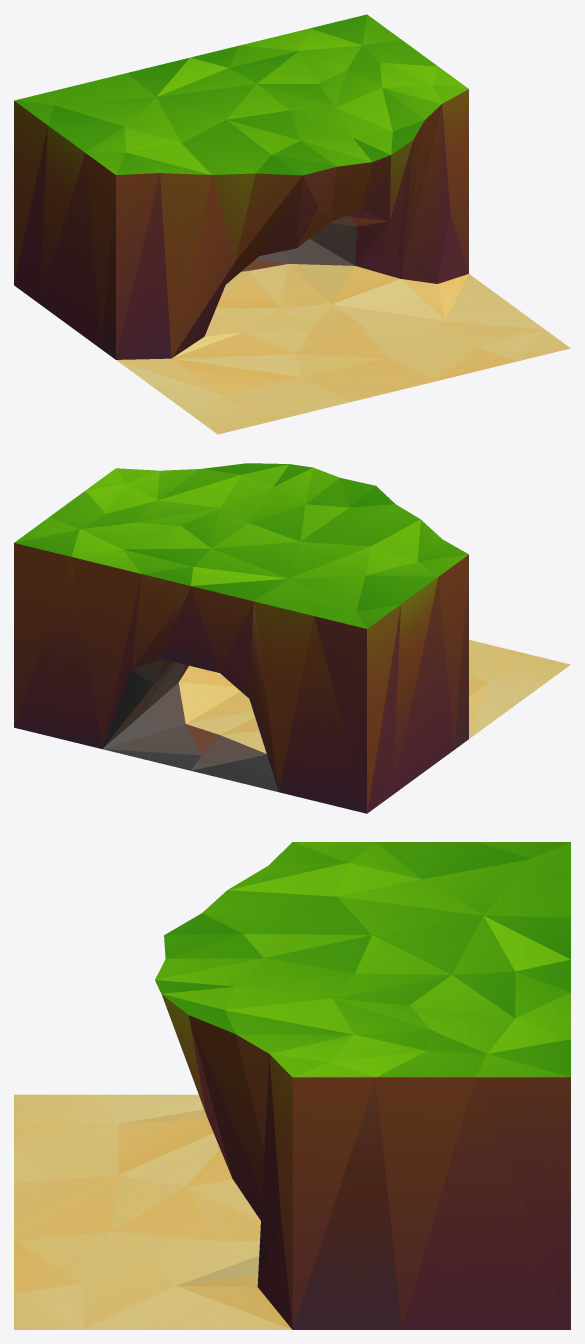
File: GL-Terrain-part-15-LOD2.fbx
The picture shows the model from 3 angles, top to bottom: view 1: azimuth 30°, elevation 25°; view 2: azimuth 150°, elevation 25°; view 3: azimuth 270°, elevation 25°; orthographic projection. The views are drawn at different scales.
Parts seen in each view (by area): view 1: GL_Terrain_part_15; view 2: GL_Terrain_part_15; view 3: GL_Terrain_part_15.
Part boxes in pixels (left/top/right/bottom): GL_Terrain_part_15: left=14, top=14, right=570, bottom=434; GL_Terrain_part_15: left=14, top=463, right=570, bottom=813; GL_Terrain_part_15: left=14, top=842, right=570, bottom=1329.
Bounding box in the file's own units: 6 × 3 × 6.
